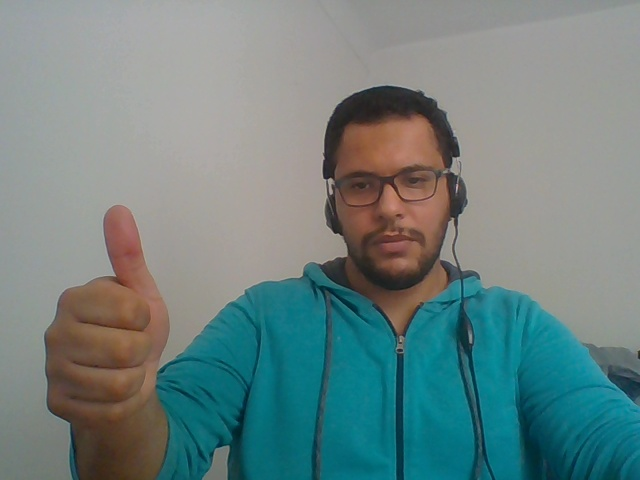ok: (37, 185, 181, 454)
